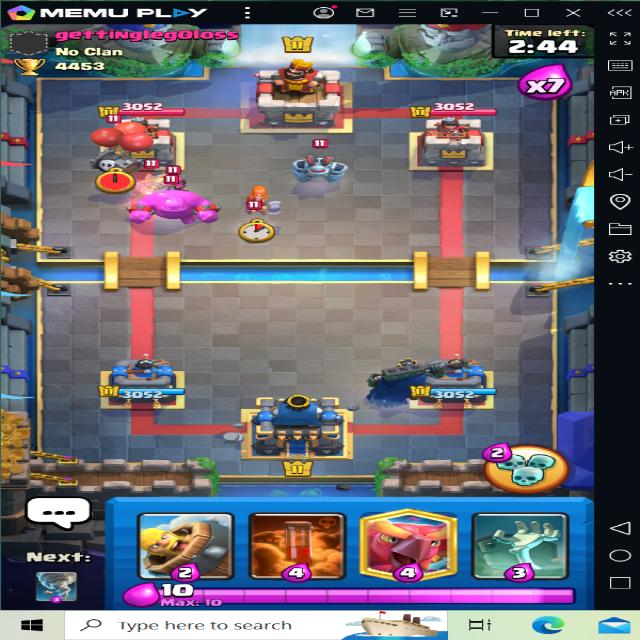electro-golem: (131, 183, 224, 229)
firecracker: (155, 164, 195, 193)
mega-minion: (283, 146, 352, 186)
royal-ghost: (126, 168, 176, 208)
skeleton-barrel: (80, 109, 152, 188)
valkyrie: (241, 186, 284, 227)
